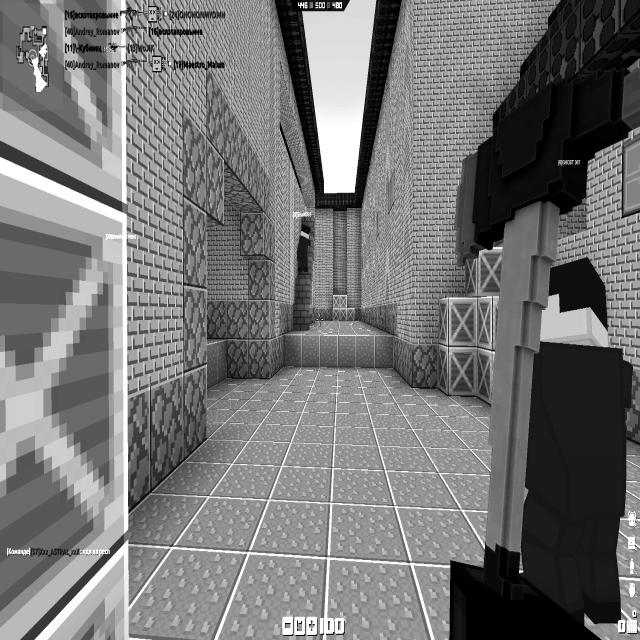Head: (541, 257, 608, 349), (300, 225, 310, 239)
Player: (523, 257, 634, 620), (297, 223, 311, 274)
